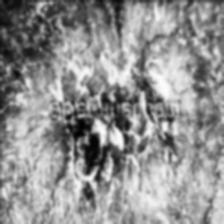Potentially Malignant Skin Tumors: (60, 113, 102, 186)
